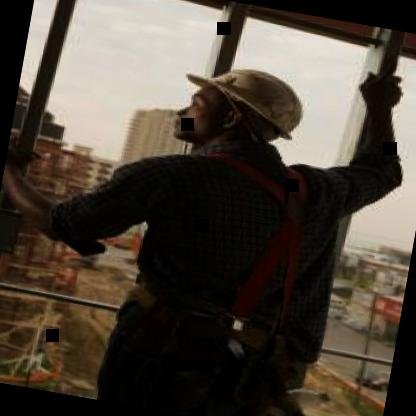helmet: (160, 34, 337, 170)
